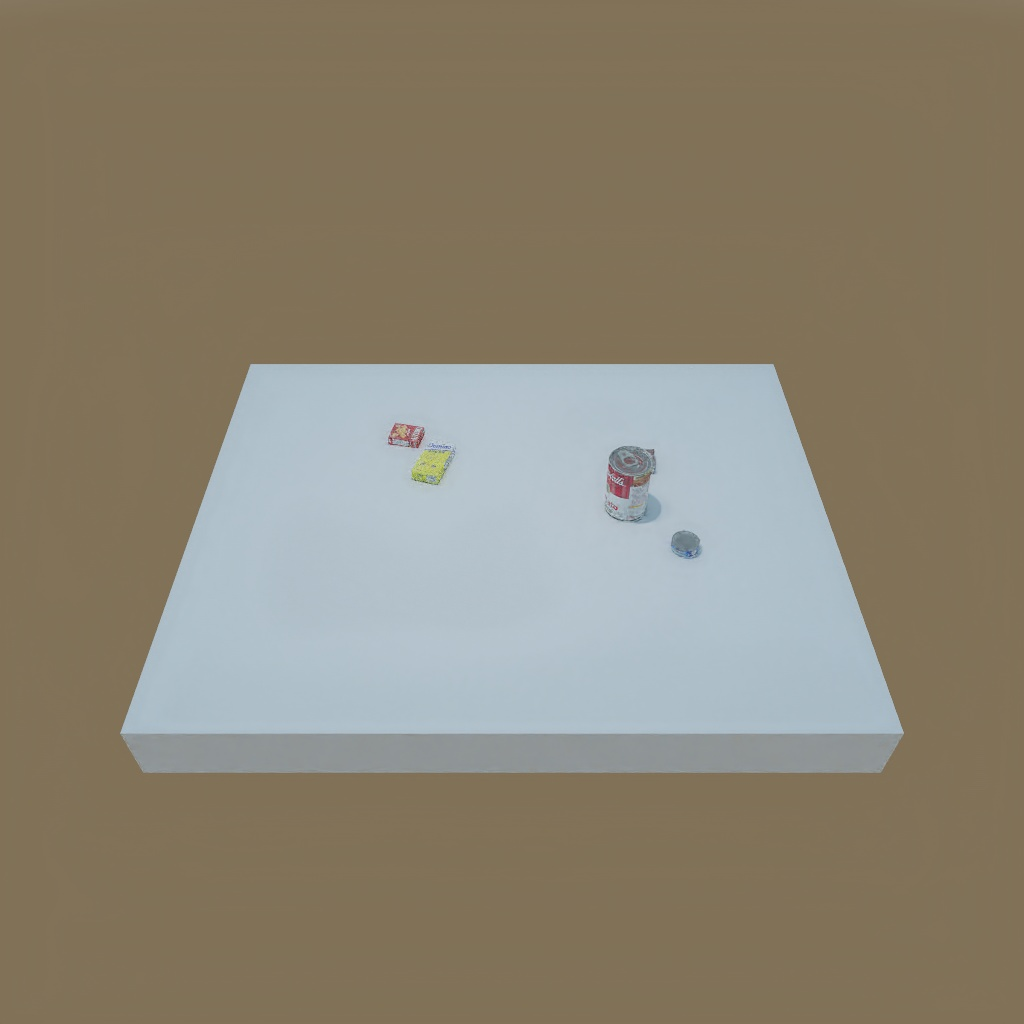tomato_soup_can: (603, 444, 653, 523)
